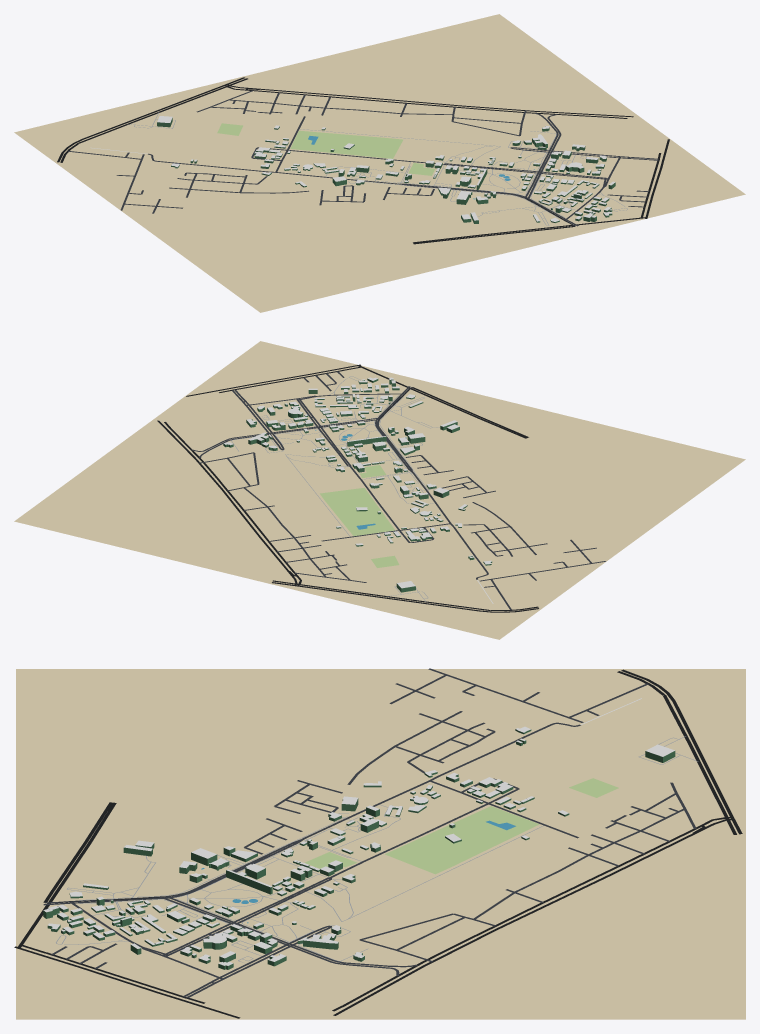
The model's file is mapa-espoch.glb.
The picture shows the model from 3 angles, top to bottom: view 1: azimuth 30°, elevation 25°; view 2: azimuth 150°, elevation 25°; view 3: azimuth 270°, elevation 25°; orthographic projection. The views are drawn at different scales.
Parts seen in each view (by area): view 1: Plano.001, map.osm_buildings, map.osm_roads_residential.001, map.osm_roads_trunk, map.osm_vegetation, map.osm_paths_footway; view 2: Plano.001, map.osm_buildings, map.osm_roads_residential.001, map.osm_roads_trunk, map.osm_vegetation, map.osm_paths_footway; view 3: Plano.001, map.osm_buildings, map.osm_roads_residential.001, map.osm_roads_trunk, map.osm_vegetation, map.osm_paths_footway.
Part boxes in pixels (box(x1,y1,x2,y2)): Plano.001: box(14, 14, 745, 312); map.osm_buildings: box(157, 116, 615, 223); map.osm_roads_residential.001: box(68, 90, 658, 226); map.osm_roads_trunk: box(57, 77, 669, 244); map.osm_vegetation: box(217, 123, 434, 175); map.osm_paths_footway: box(129, 112, 627, 225); Plano.001: box(14, 341, 745, 639); map.osm_buildings: box(223, 377, 492, 592); map.osm_roads_residential.001: box(191, 371, 605, 610); map.osm_roads_trunk: box(157, 364, 538, 612); map.osm_vegetation: box(320, 465, 399, 567); map.osm_paths_footway: box(231, 376, 439, 601); Plano.001: box(16, 669, 745, 1019); map.osm_buildings: box(43, 726, 675, 969); map.osm_roads_residential.001: box(43, 668, 696, 998); map.osm_roads_trunk: box(14, 669, 742, 1018); map.osm_vegetation: box(304, 778, 618, 874); map.osm_paths_footway: box(56, 736, 698, 962).
Size of the model in its own units: 1997 by 20.18 by 1760.
